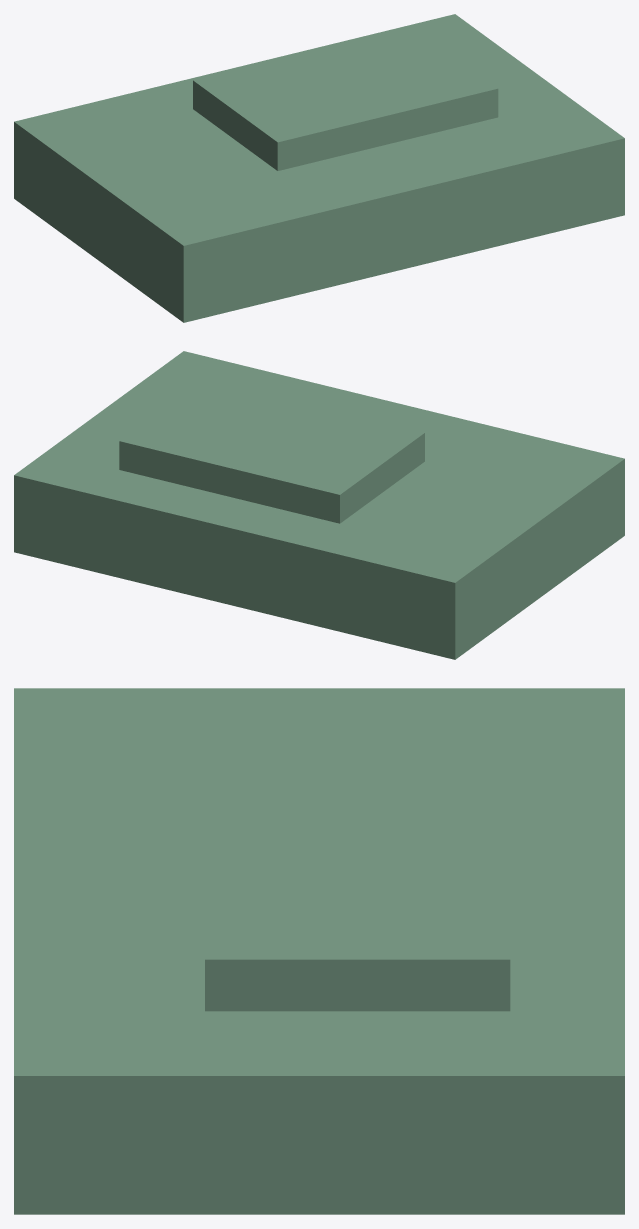
Rendered from net_tarpaulin.glb.
3 renders of one model, top to bottom at view 1: azimuth 30°, elevation 25°; view 2: azimuth 150°, elevation 25°; view 3: azimuth 270°, elevation 25°, orthographic. The views are drawn at different scales.
Parts seen in each view (by area): view 1: tarp, tarpfold; view 2: tarp, tarpfold; view 3: tarp, tarpfold.
Part boxes in pixels (x1,y1,x2,y2): tarp: (14, 14, 624, 322); tarpfold: (193, 26, 498, 170); tarp: (14, 351, 624, 659); tarpfold: (119, 379, 424, 523); tarp: (14, 688, 624, 1214); tarpfold: (205, 765, 510, 1011).
Bounding box in the file's own units: 2.4 × 0.5501 × 1.6.
